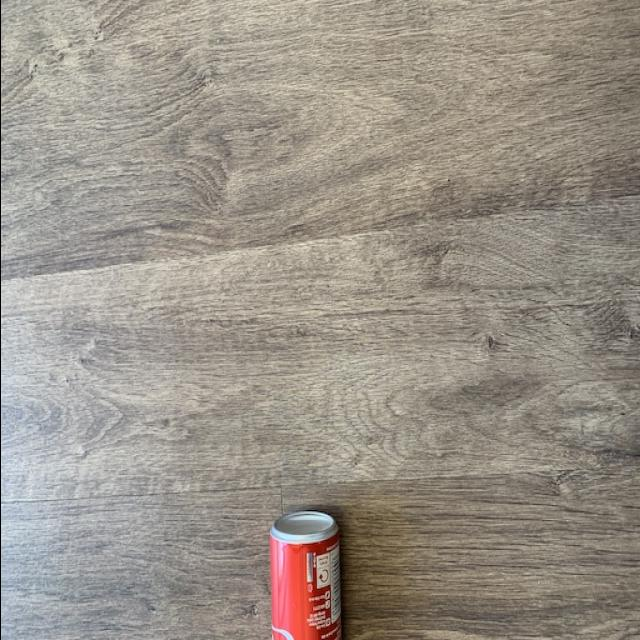Aluminum Can: (268, 480, 344, 640)
